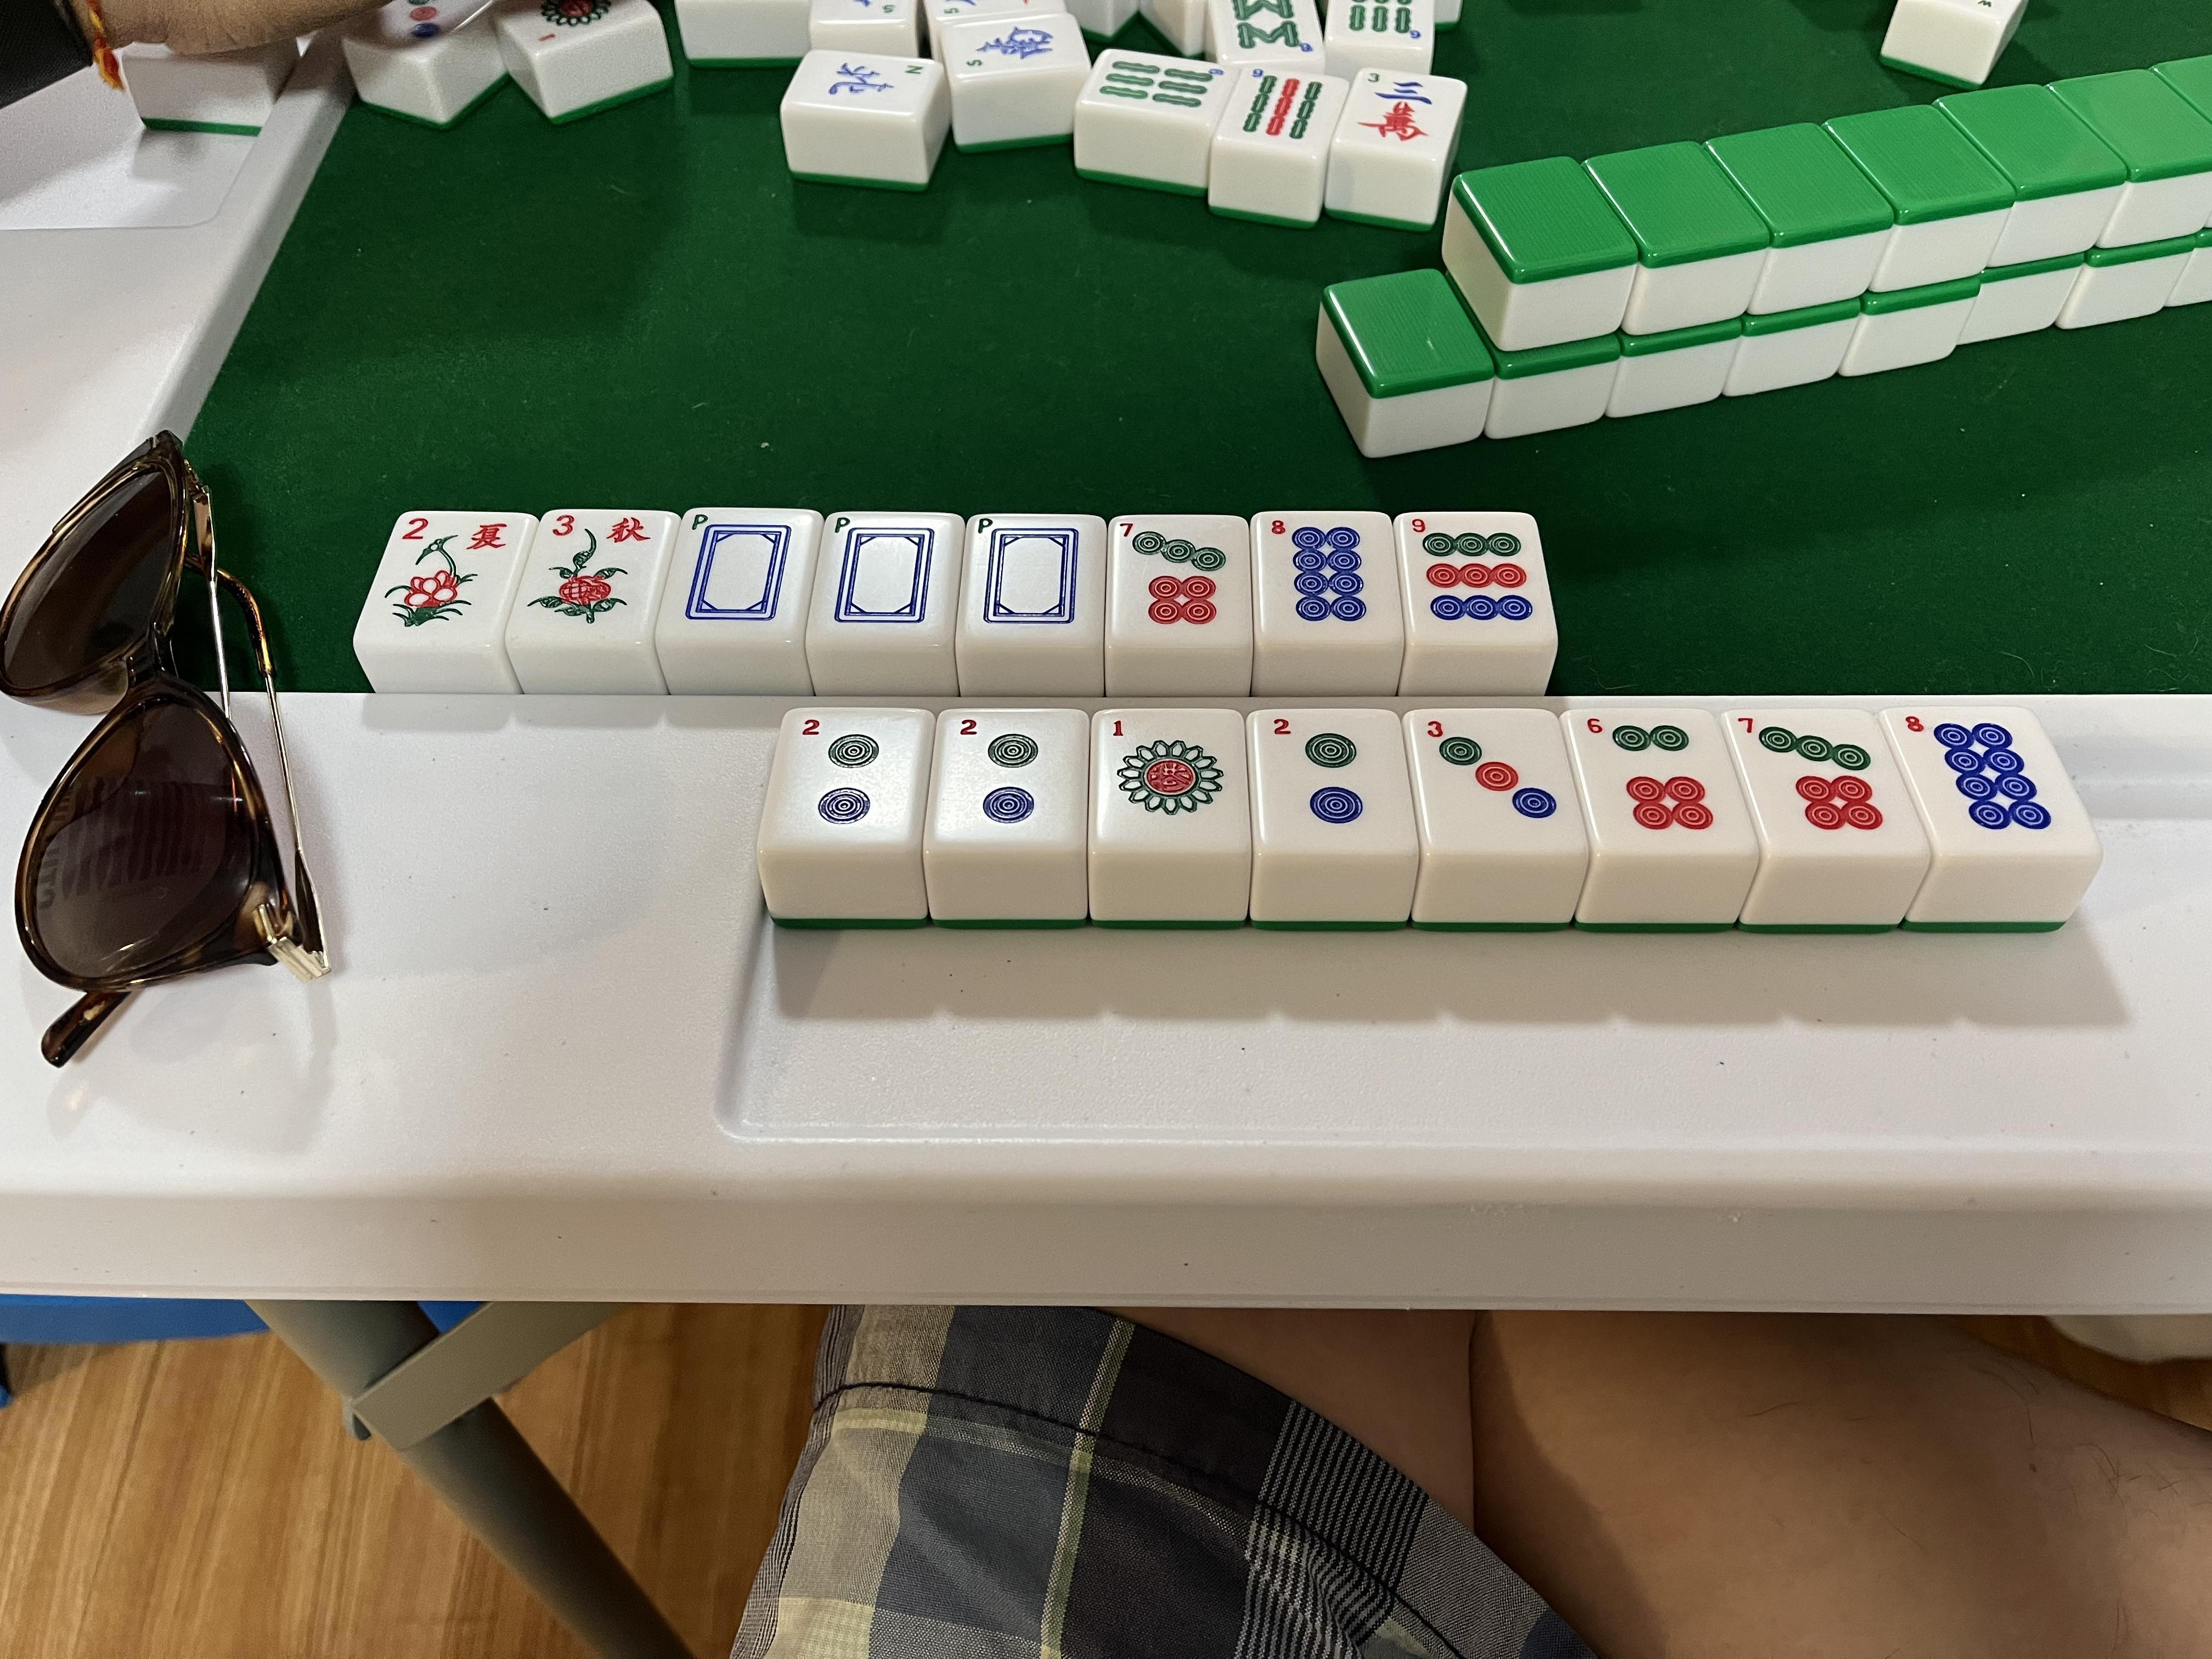circle-eight: (1902, 713, 2055, 840), (1263, 512, 1383, 638)
circle-nine: (1407, 516, 1543, 631)
circle-one: (1104, 706, 1237, 833)
circle-seven: (1733, 711, 1892, 840), (1113, 514, 1247, 645)
circle-six: (1583, 709, 1714, 847)
circle-three: (1420, 708, 1573, 850)
circle-two: (1261, 709, 1390, 842), (789, 713, 907, 836), (949, 714, 1057, 833)
flower-red_three: (523, 509, 657, 640)
flower-red_two: (376, 512, 510, 640)
honor-blue_dragon: (822, 507, 939, 633), (970, 512, 1089, 634), (683, 507, 798, 631)
